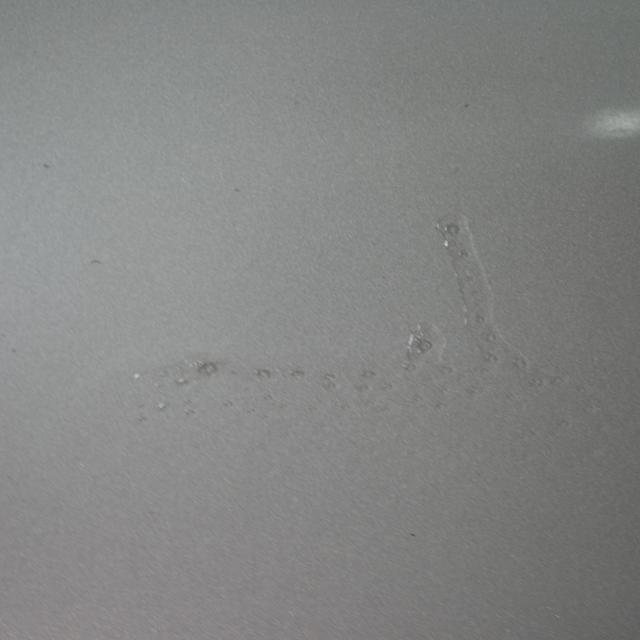dirt: (88, 254, 104, 265), (40, 161, 53, 172), (228, 187, 248, 193)
runs: (142, 210, 564, 452)
